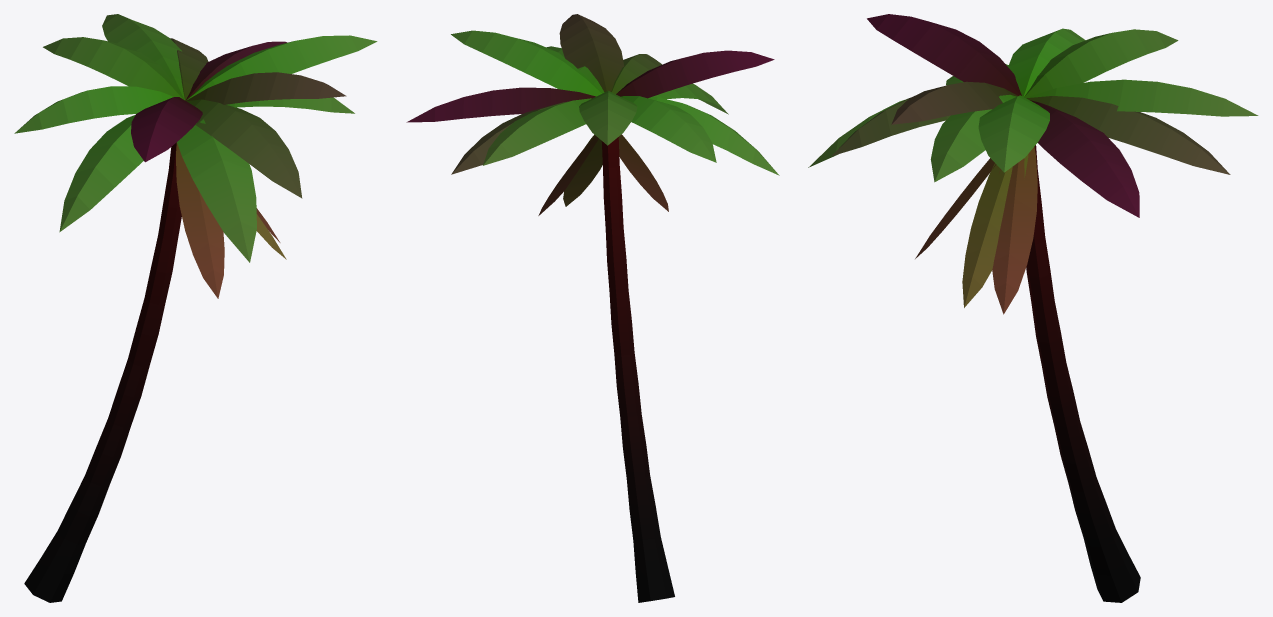
The model's file is palm_c.glb.
3 views of the same model, side by side, from view 1: azimuth 30°, elevation 25°; view 2: azimuth 150°, elevation 25°; view 3: azimuth 270°, elevation 25° (orthographic). The views are drawn at different scales.
Parts seen in each view (by area): view 1: Palm; view 2: Palm; view 3: Palm.
Boxes of the visible parts, <box> form: Palm: <box>14,14,377,602</box>; Palm: <box>406,14,779,602</box>; Palm: <box>808,14,1258,602</box>.
Size of the model in its own units: 6.06 by 9.27 by 6.39.
